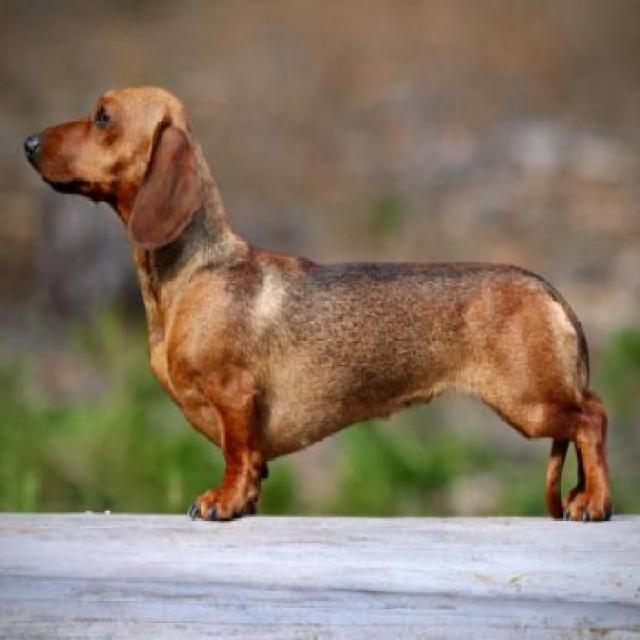Dog: (24, 85, 614, 528)
